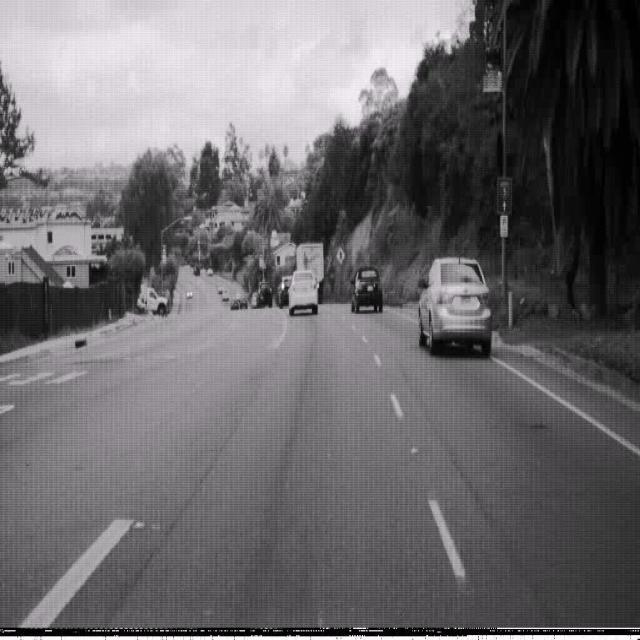pedestrianCrossing: (335, 245, 346, 266)
